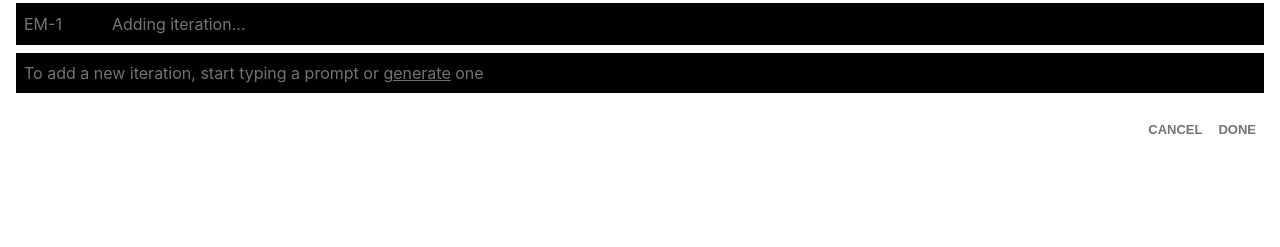
AddIteration Component › REMOVE action click effect on generate title mode
Click the button "generate" at (417, 73), box [383, 63, 451, 83]
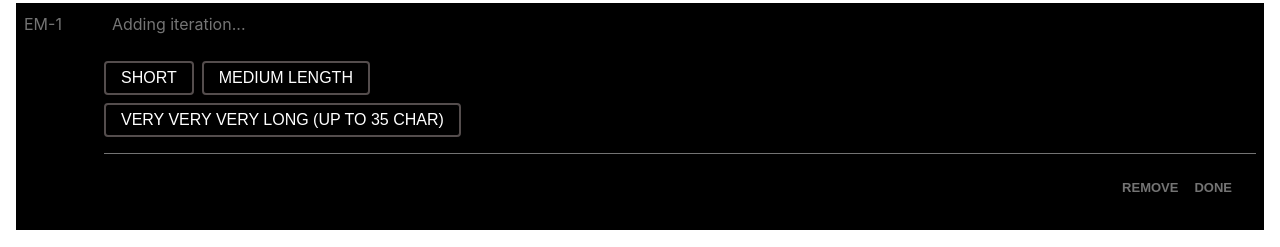
Result: the button "REMOVE" is shown
Click the button "REMOVE" at (1150, 188), box [1122, 178, 1178, 198]
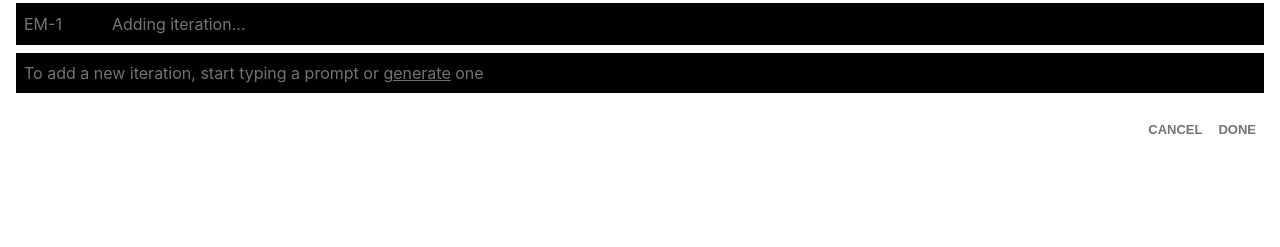
Result: the text "To add a new iteration, start typing" is shown at [24, 63, 379, 83]
